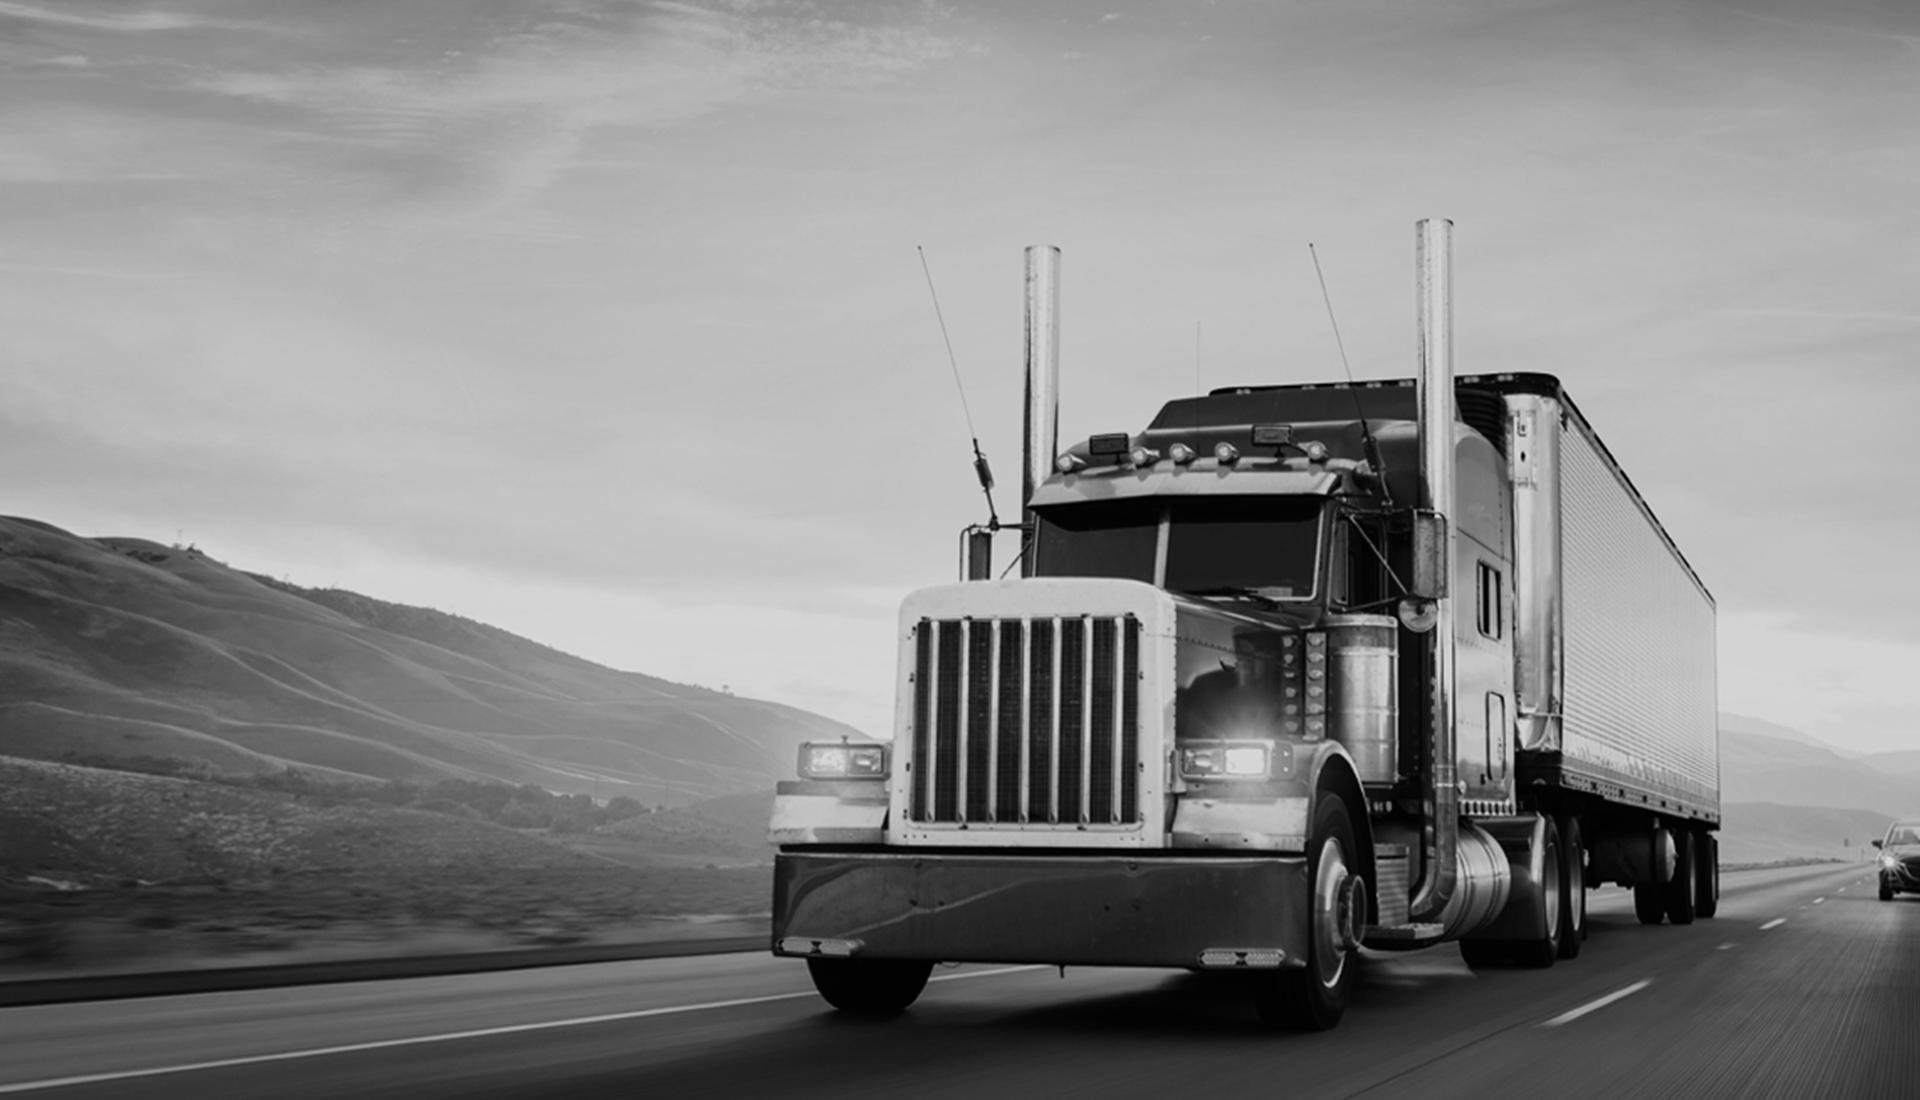truck: (703, 220, 1598, 980)
